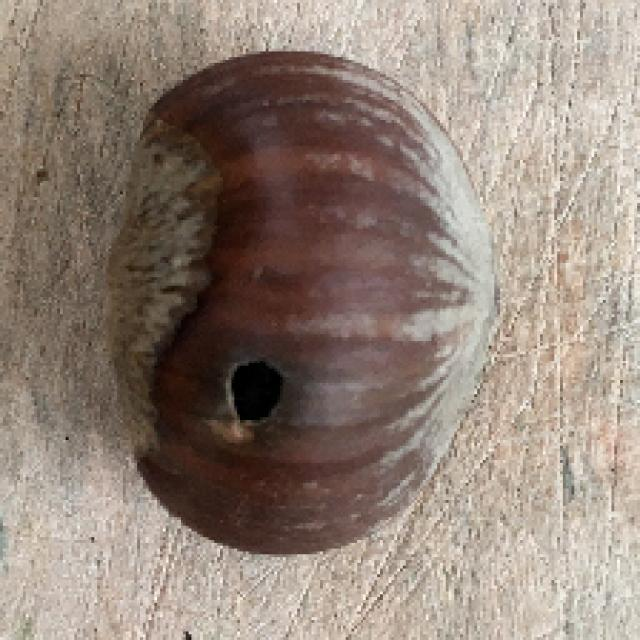damagedHazelnut: (98, 40, 509, 562)
